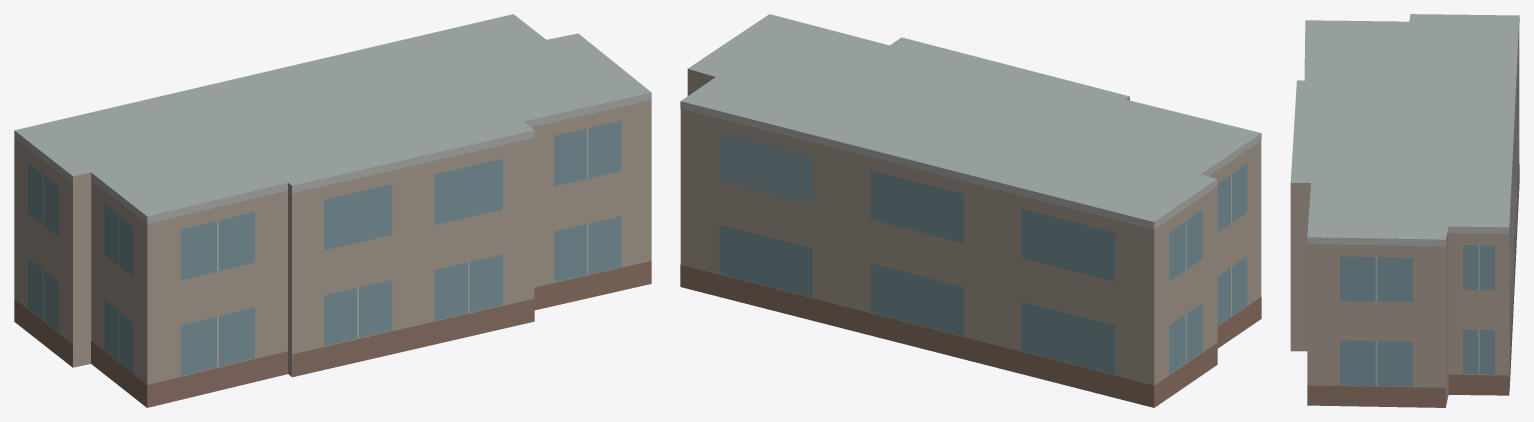
The model's file is survey-upis-32963684.glb.
The picture shows the model from 3 angles, left to right: view 1: azimuth 30°, elevation 25°; view 2: azimuth 150°, elevation 25°; view 3: azimuth 270°, elevation 25°; orthographic projection. The views are drawn at different scales.
Visible parts, largest first — view 1: survey-upis-32963684.tmp; view 2: survey-upis-32963684.tmp; view 3: survey-upis-32963684.tmp.
Part boxes in pixels (box(x1,y1,x2,y2)): survey-upis-32963684.tmp: box(14, 14, 651, 407); survey-upis-32963684.tmp: box(680, 14, 1261, 407); survey-upis-32963684.tmp: box(1290, 14, 1519, 407).
Bounding box in the file's own units: 17.55 × 6.1 × 7.52.
